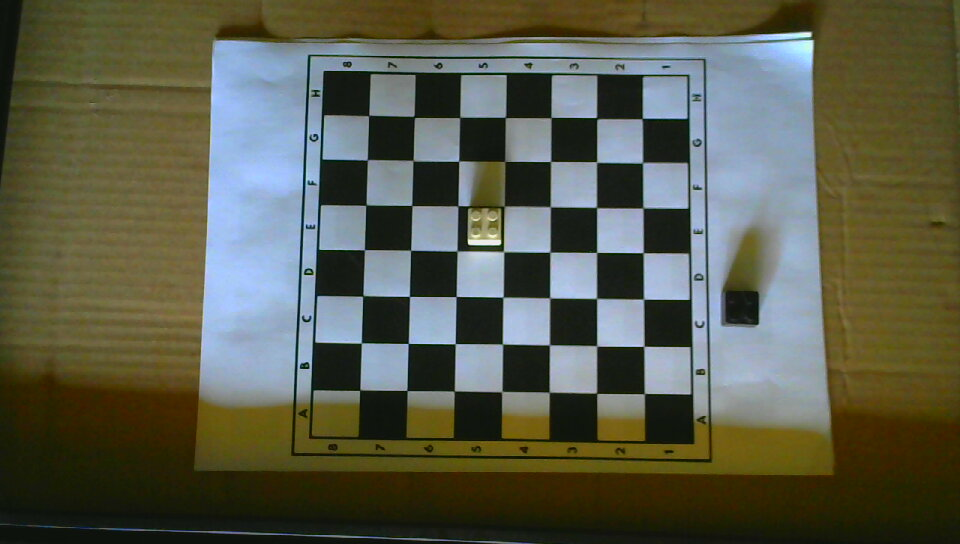bp: (719, 289, 761, 329)
wp: (465, 205, 502, 246)
